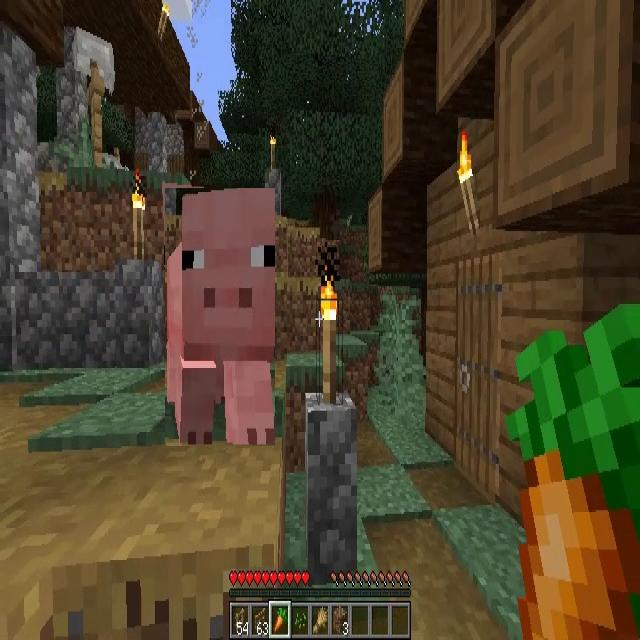pig: (166, 188, 276, 446)
